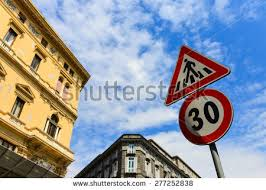Speed_limit_30km: (176, 88, 233, 145)
